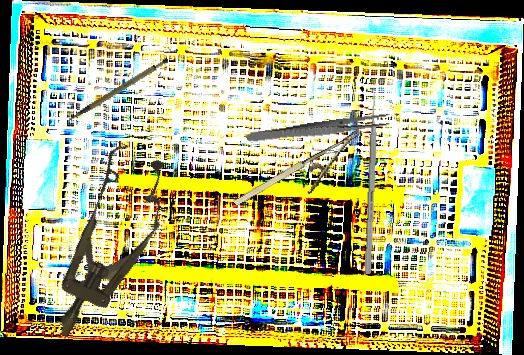Dressing Forceps: (245, 111, 392, 147)
Needle Holder: (231, 129, 375, 227)
Pusher: (364, 80, 379, 275)
Scalpel Handle: (61, 55, 175, 122)
Speculum: (27, 138, 185, 353)
